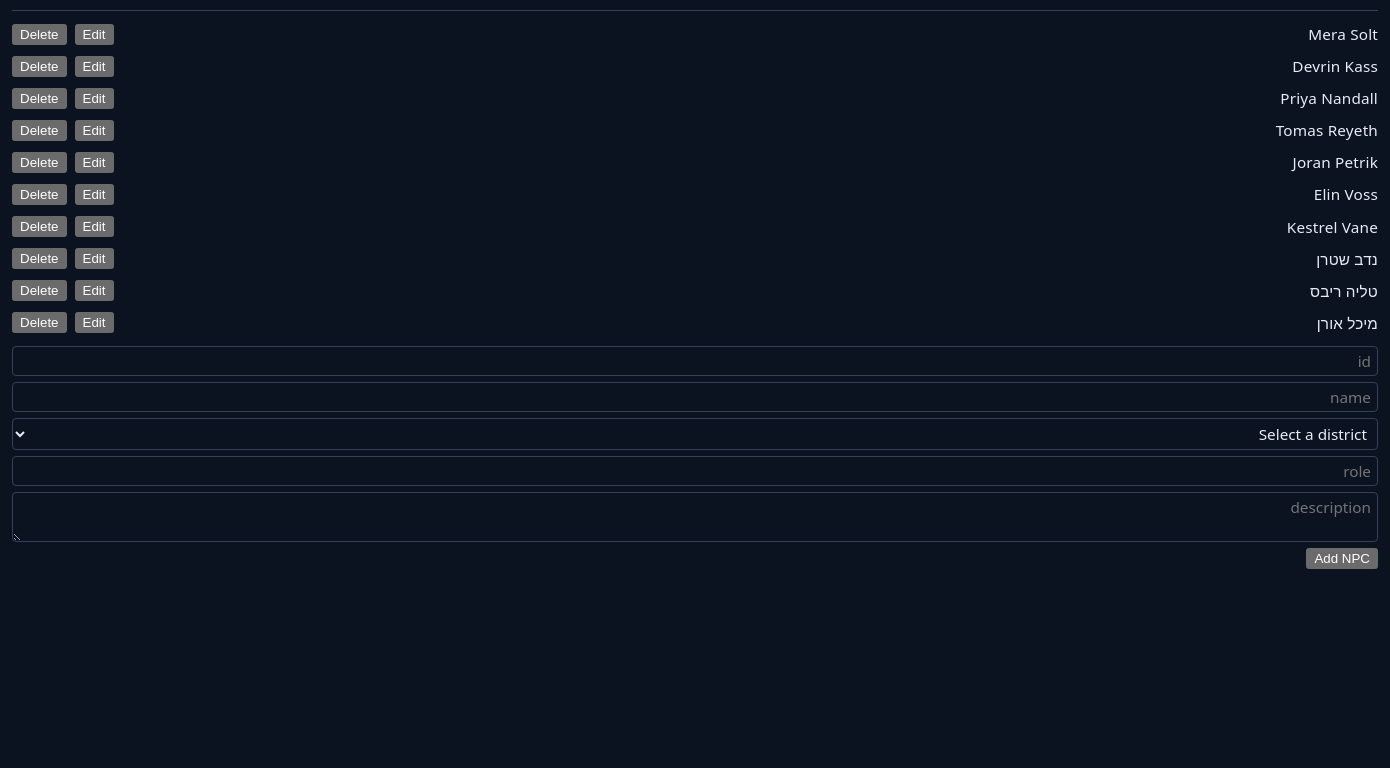
NpcsAdminSection › shows validation errors for an invalid district and does not create the NPC
The image size is (1390, 768).
Type "test-crud-npc-ui" into the field named "NPC id".
click(695, 361); type("test-crud-npc-ui")  # box [12,346,1378,376]
Type "UI Test NPC" into the field named "NPC name".
click(695, 397); type("UI Test NPC")  # box [12,382,1378,412]
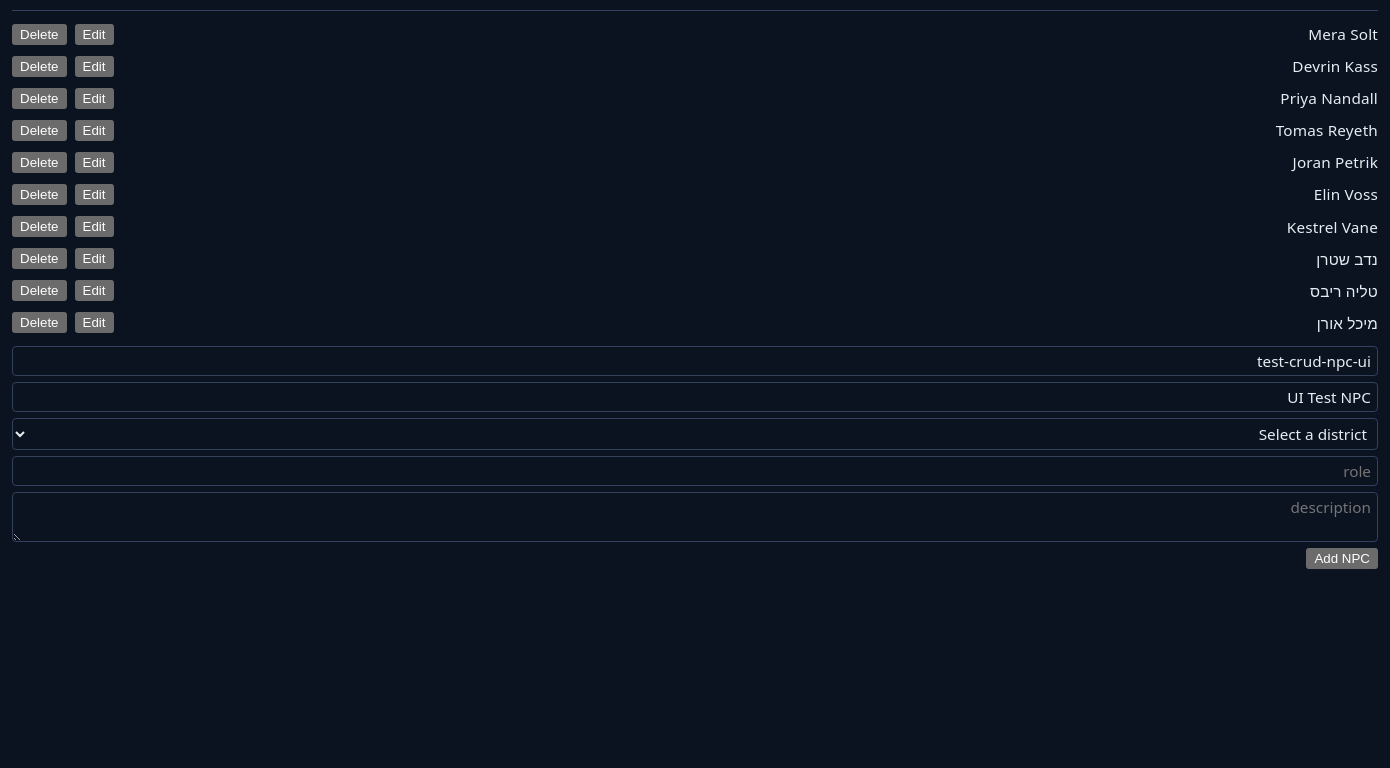
Select "north" in the dropdown named "NPC district" at (695, 434), box [12,418,1378,450]
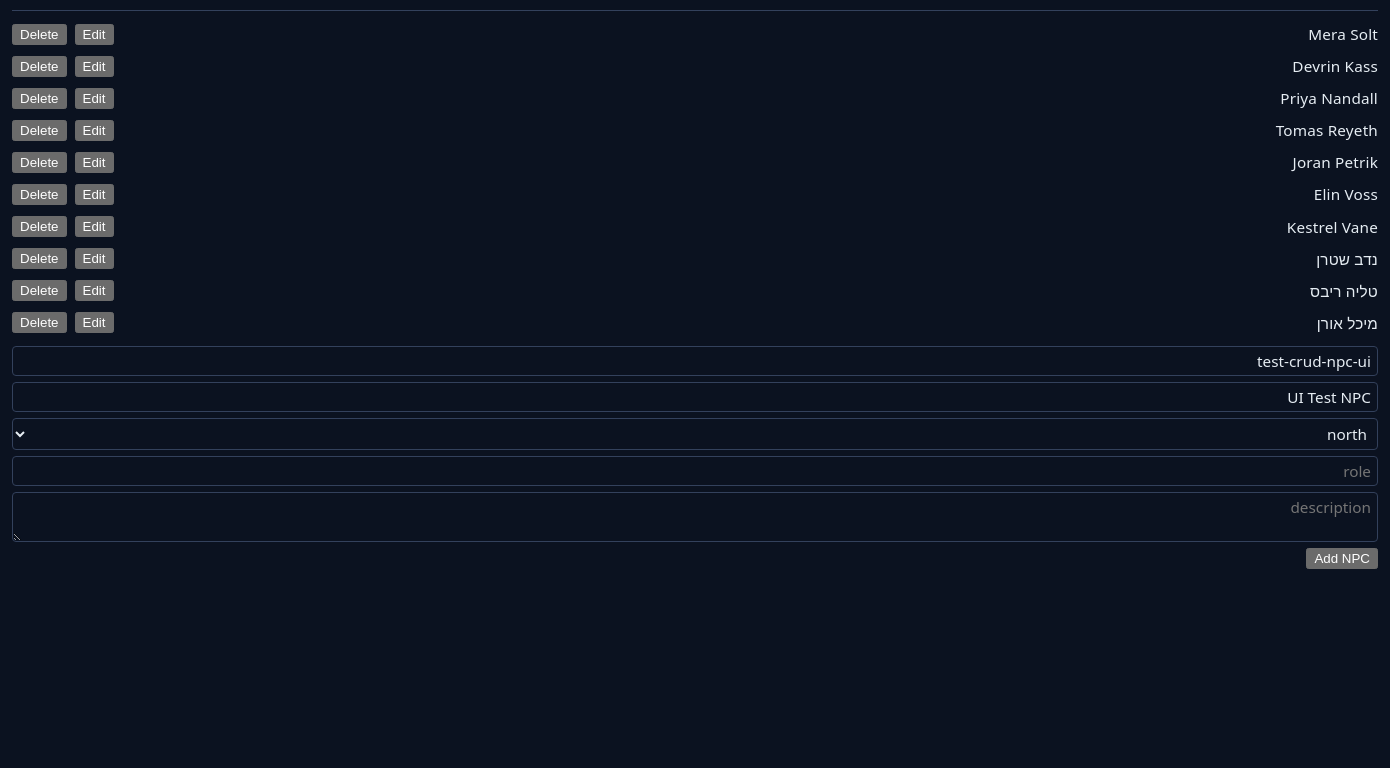
Type "Tester" into the field named "NPC role".
click(695, 471); type("Tester")  # box [12,456,1378,486]
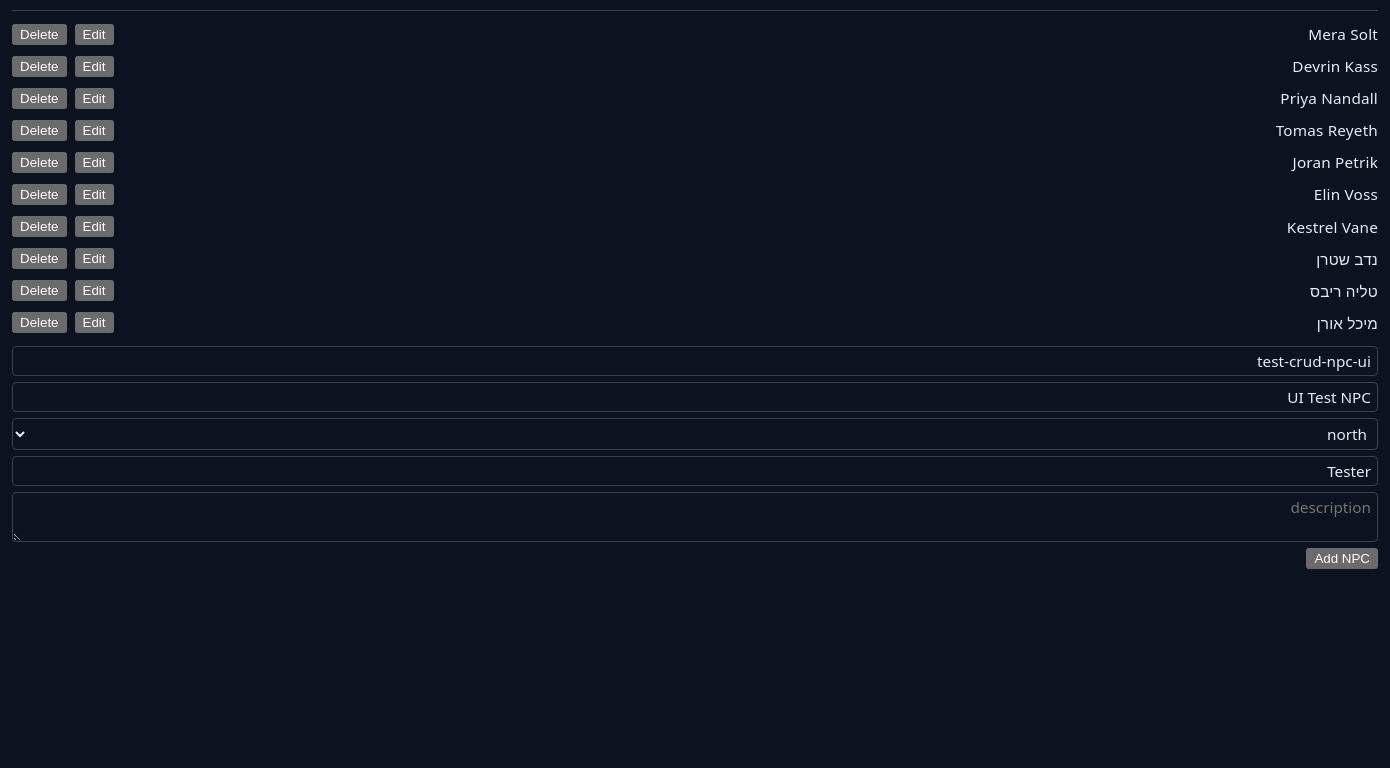
Type "A test NPC." into the text box named "NPC description".
click(695, 517); type("A test NPC.")  # box [12,492,1378,542]
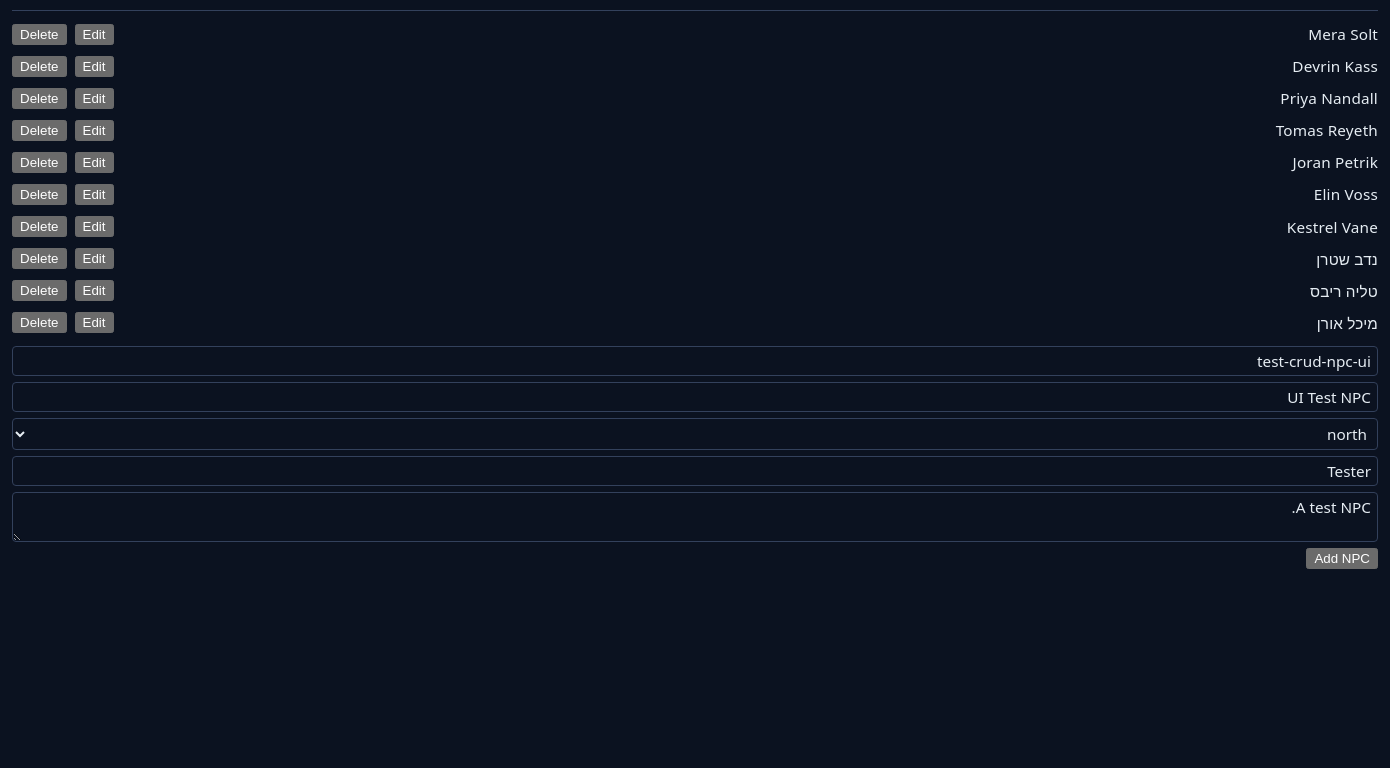
Select "Select a district" in the dropdown named "NPC district" at (695, 434), box [12,418,1378,450]
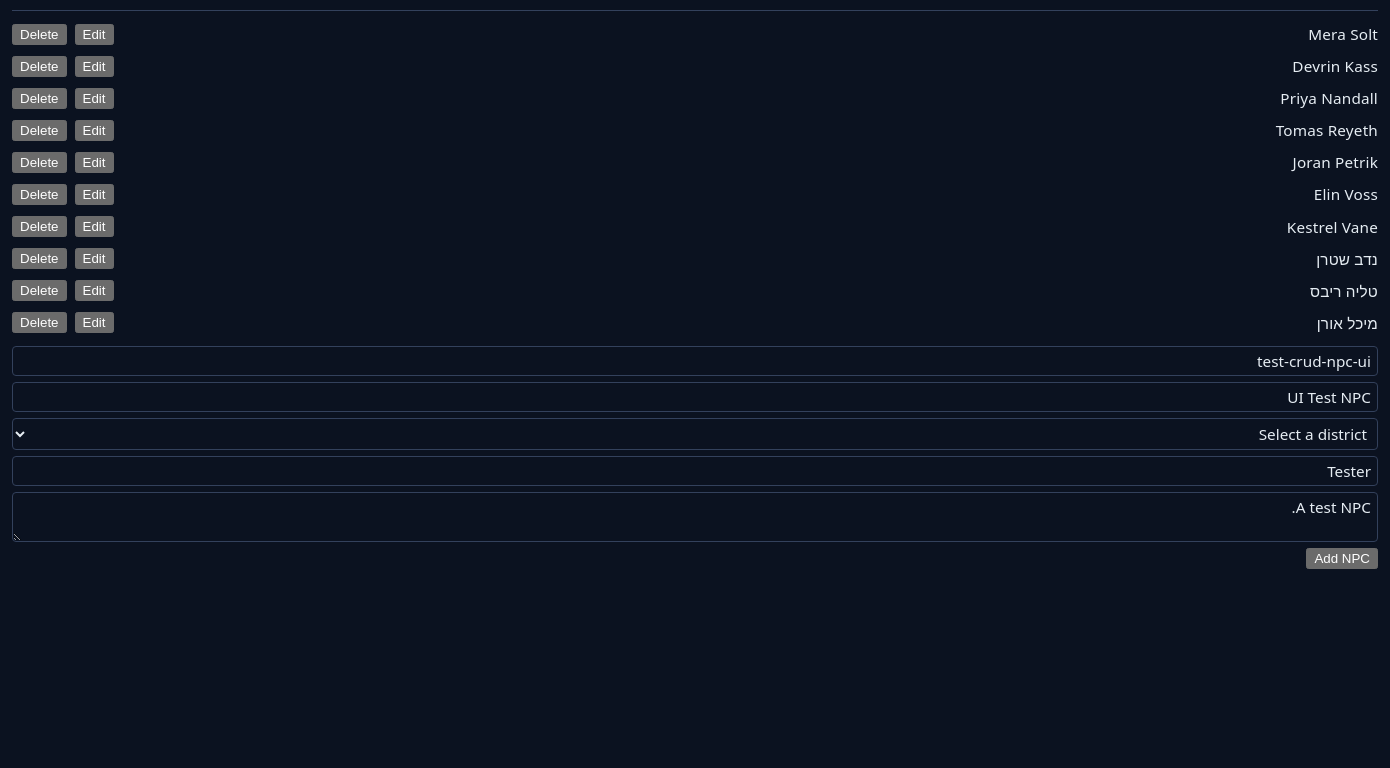
Click the button "Add NPC".
click(1342, 558)  # box [1306,548,1378,569]
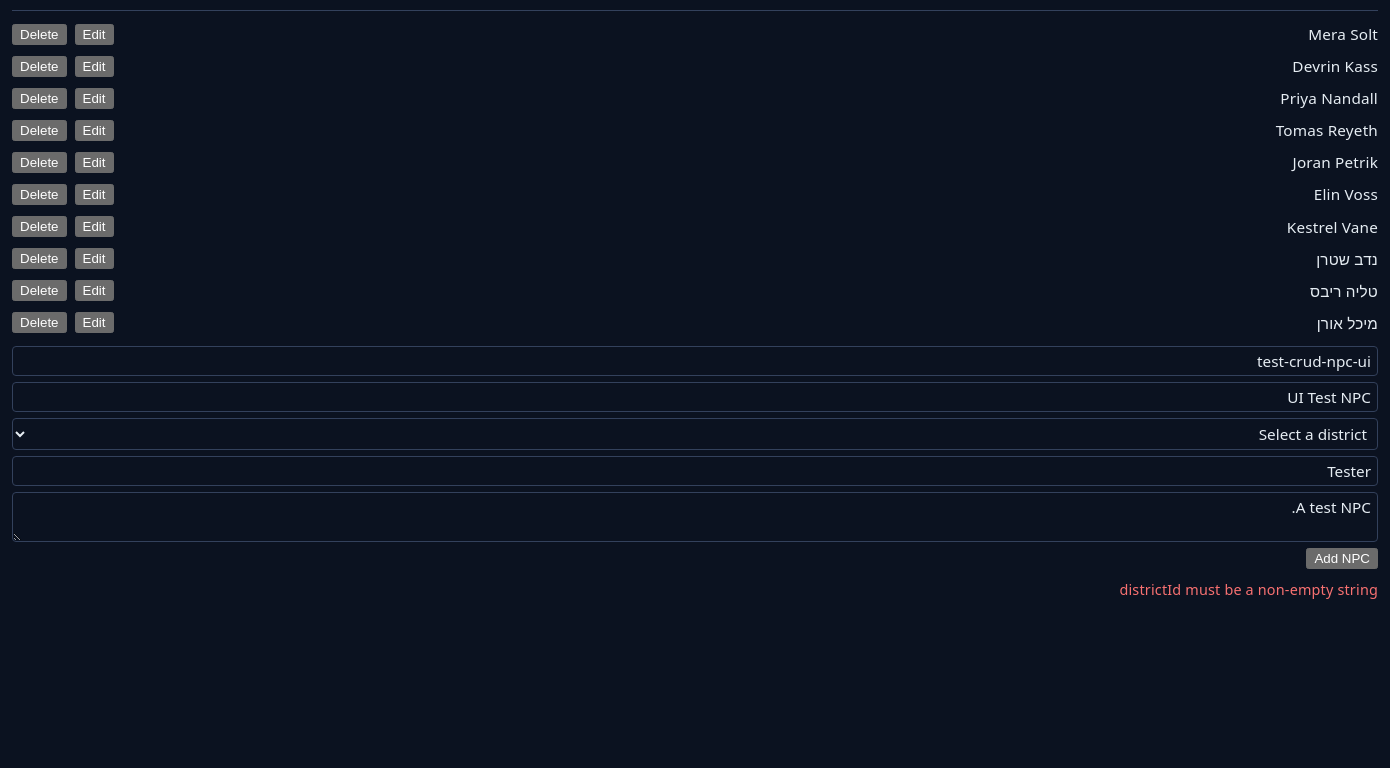
Check: the list item "districtId must be a non-empty string" is shown, box [1119,580,1378,599]
